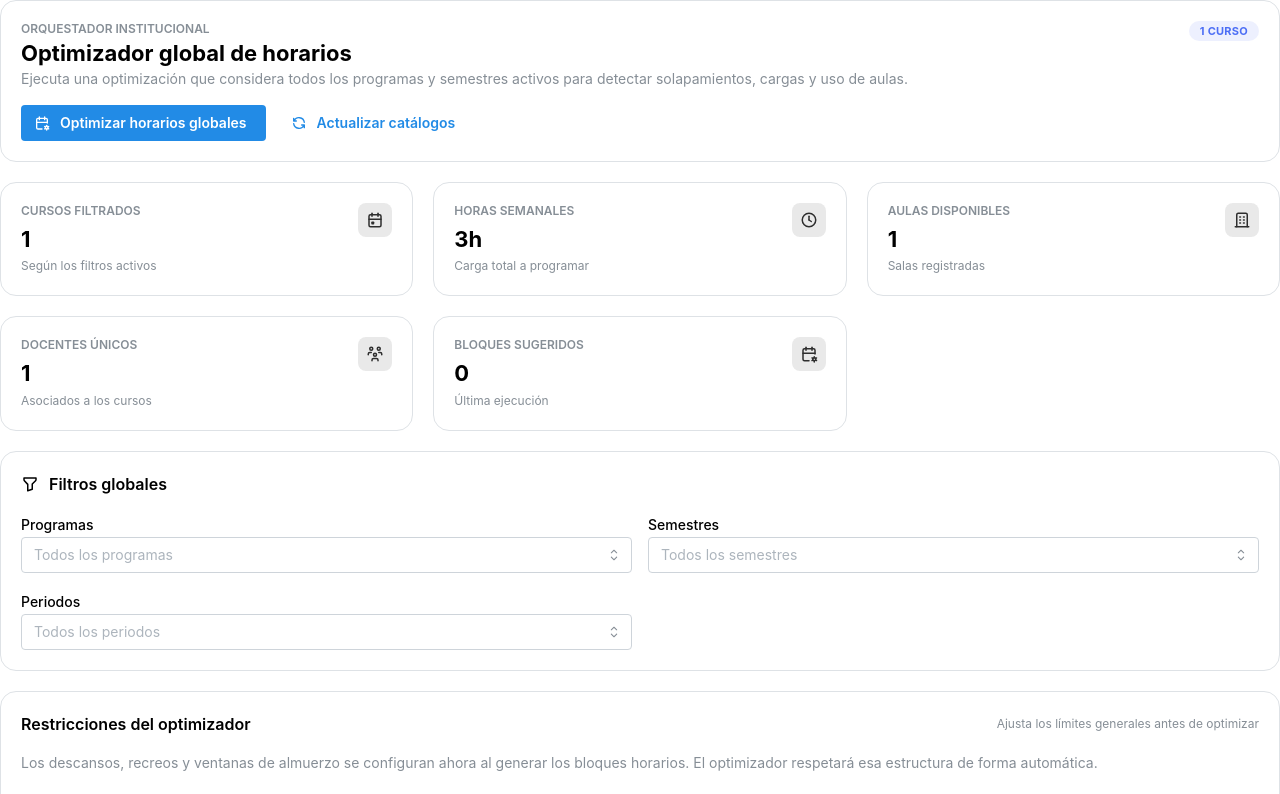
Test: GlobalScheduleOptimizer › muestra métricas de desempeño y diagnósticos del optimizador global
The image size is (1280, 794).
Click the button "Optimizar horarios globales" at (143, 123), box [21,105,266,141]
(page scrolled)
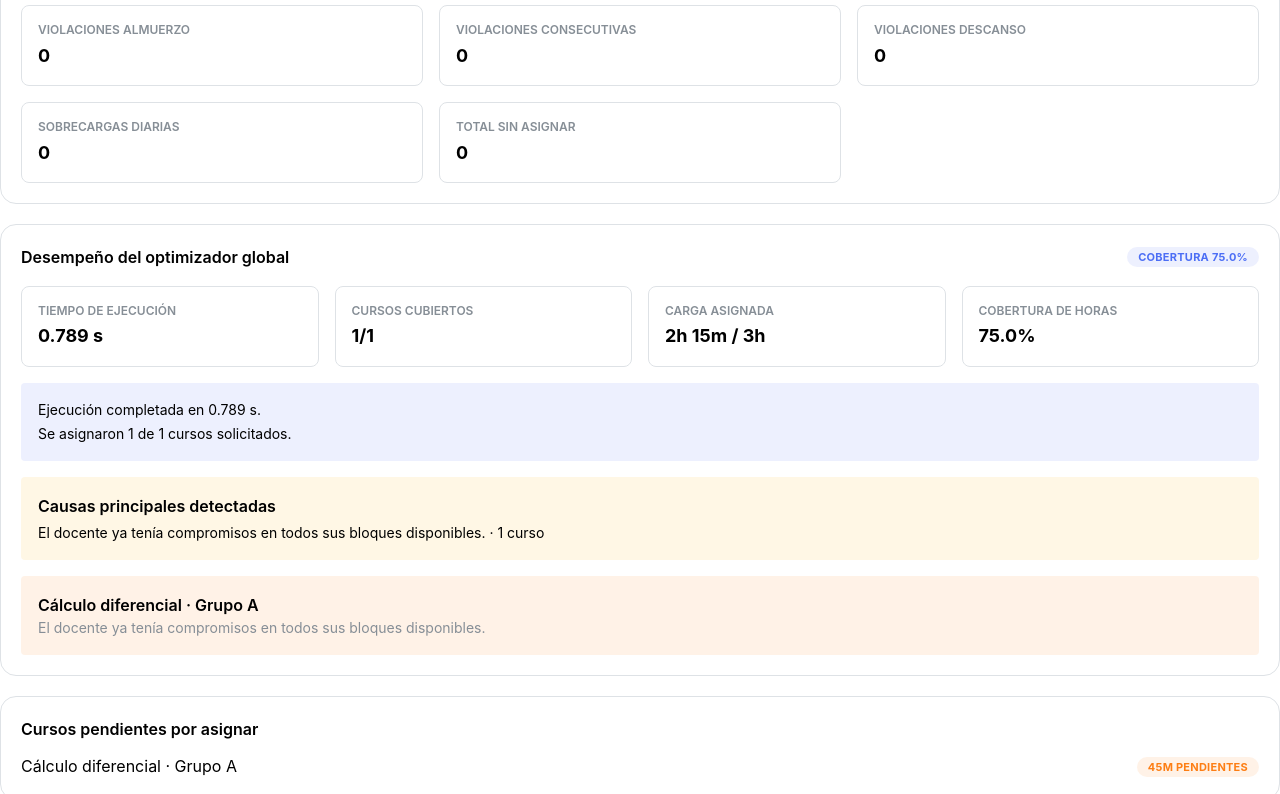
Now the text "Desempeño del optimizador global" is shown, box [21,245,289,270]
Now the text "Cobertura 75.0%" is shown, box [1138,248,1248,266]
Now the heading "0.789 s" is shown, box [38,326,103,346]
